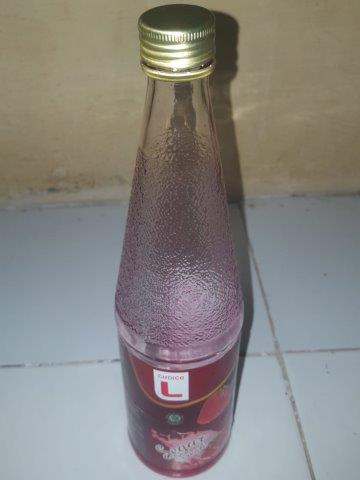botolkaca: (114, 5, 245, 477)
